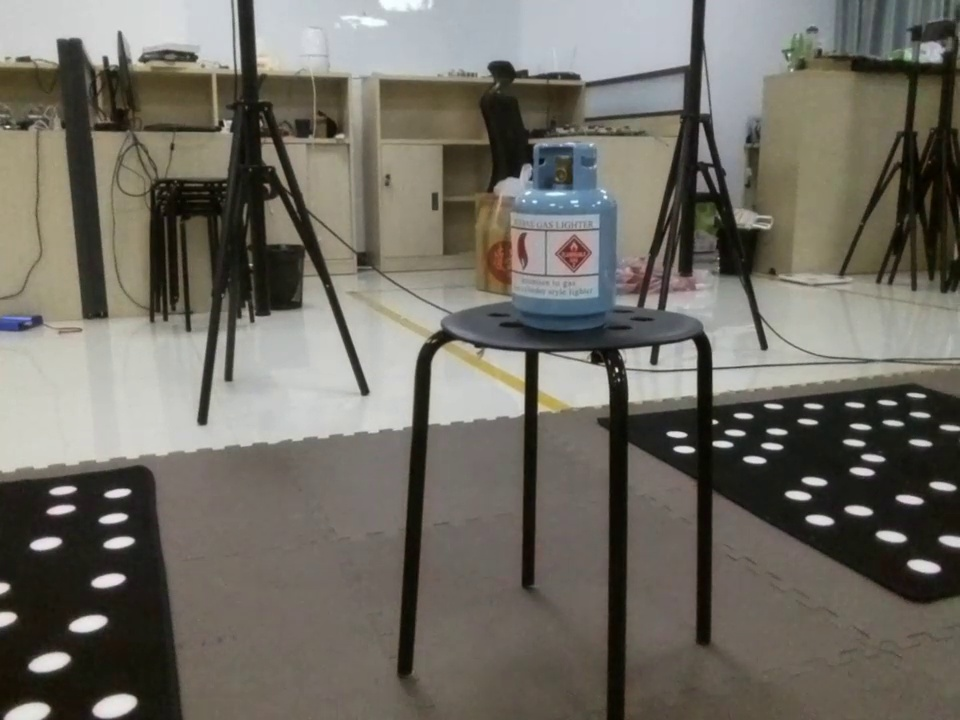gas tank: (504, 142, 623, 333)
